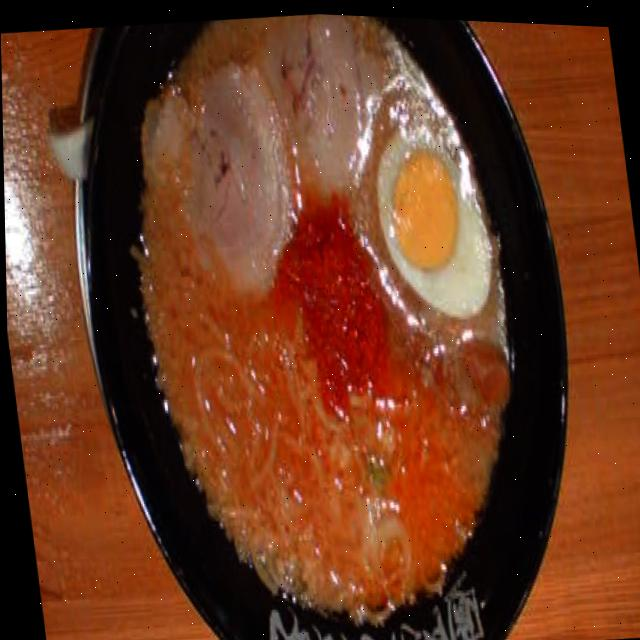面条主食: (41, 1, 602, 640)
